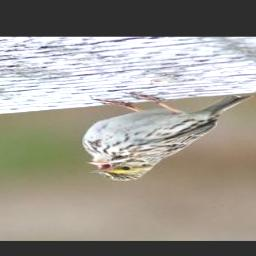Sparrow: (79, 90, 249, 185)
